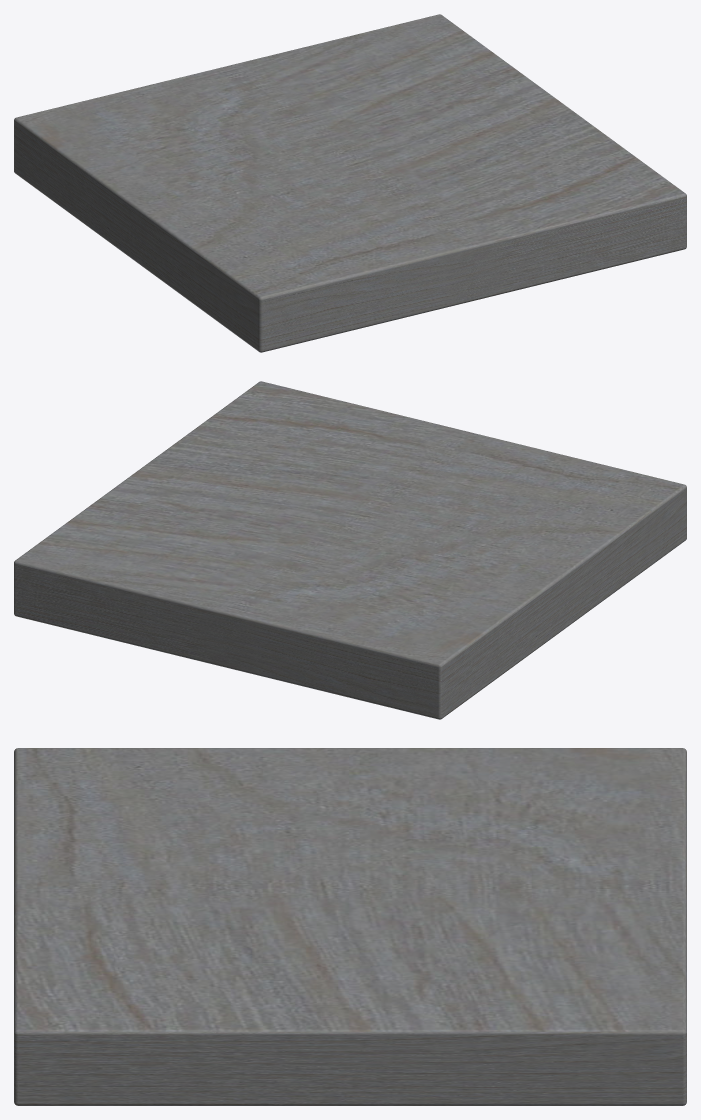
File: BldgFloor.obj
The picture shows the model from 3 angles, top to bottom: view 1: azimuth 30°, elevation 25°; view 2: azimuth 150°, elevation 25°; view 3: azimuth 270°, elevation 25°; orthographic projection. The views are drawn at different scales.
Parts seen in each view (by area): view 1: BldgFloor; view 2: BldgFloor; view 3: BldgFloor.
Boxes of the visible parts, x1=… form: BldgFloor: x1=14, y1=14, x2=686, y2=352; BldgFloor: x1=14, y1=381, x2=686, y2=719; BldgFloor: x1=14, y1=748, x2=686, y2=1105.
Size of the model in its own units: 200 by 25 by 200.
Materials: 1 (1 with a texture image).
